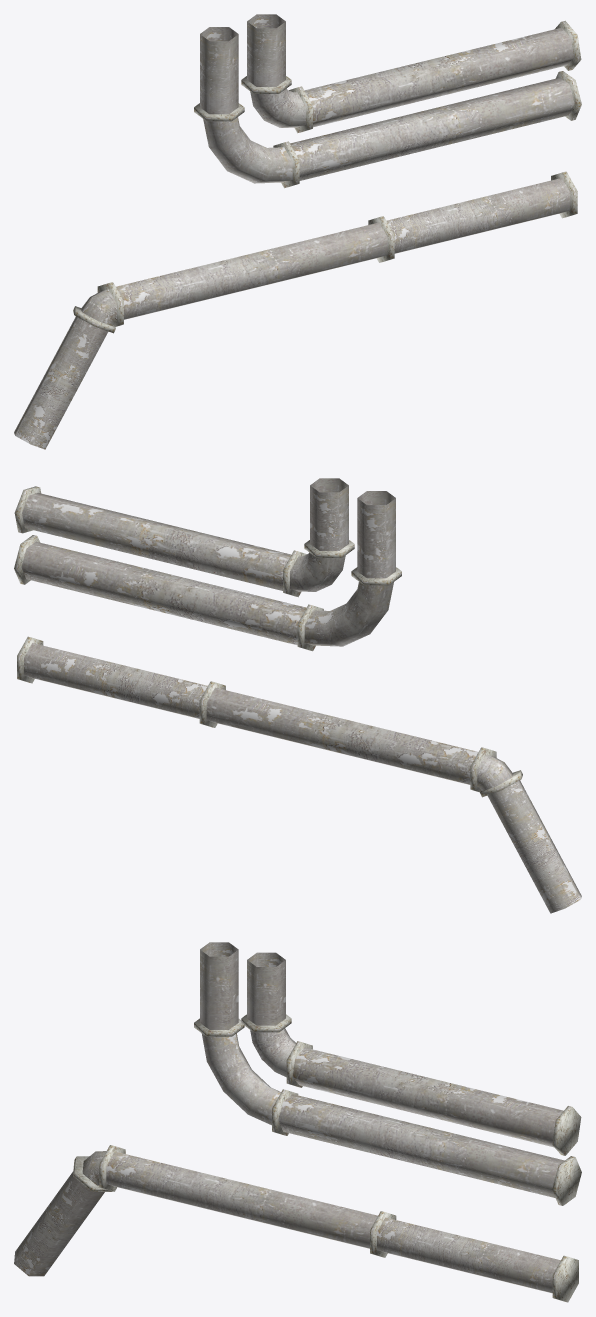
Rendered from WallScope2.obj.
The picture shows the model from 3 angles, top to bottom: view 1: azimuth 30°, elevation 25°; view 2: azimuth 150°, elevation 25°; view 3: azimuth 330°, elevation 25°; orthographic projection.
Parts seen in each view (by area): view 1: pasted__PipeSet1 pipesWall2 Wall_2 WC_Pipes3:polySurface642, pasted__PipeSet1 pipesWall2 Wall_2 WC_Pipes3:polySurface667, Wall_2 group1 WC_Pipes3:polySurface675, Wall_2 polySurface675 group1, Wall_2 group1 WC_Pipes3:polySurface671, pipesWall2 Wall_2 WC_Pipes3:polySurface645, WC_Pipes3:polySurface668 pasted__PipeSet1 pipesWall2 Wall_2, pasted__PipeSet1 pipesWall2 Wall_2 WC_Pipes3:polySurface669, pasted__PipeSet1 pipesWall2 Wall_2 WC_Pipes3:polySurface665, Wall_2 group1 WC_Pipes3:polySurface674; view 2: pasted__PipeSet1 pipesWall2 Wall_2 WC_Pipes3:polySurface642, pasted__PipeSet1 pipesWall2 Wall_2 WC_Pipes3:polySurface667, Wall_2 group1 WC_Pipes3:polySurface675, Wall_2 polySurface675 group1, Wall_2 group1 WC_Pipes3:polySurface671, pipesWall2 Wall_2 WC_Pipes3:polySurface645, WC_Pipes3:polySurface668 pasted__PipeSet1 pipesWall2 Wall_2, pasted__PipeSet1 pipesWall2 Wall_2 WC_Pipes3:polySurface669, pasted__PipeSet1 pipesWall2 Wall_2 WC_Pipes3:polySurface665, Wall_2 group1 WC_Pipes3:polySurface674; view 3: pasted__PipeSet1 pipesWall2 Wall_2 WC_Pipes3:polySurface642, pasted__PipeSet1 pipesWall2 Wall_2 WC_Pipes3:polySurface667, Wall_2 group1 WC_Pipes3:polySurface675, Wall_2 polySurface675 group1, Wall_2 group1 WC_Pipes3:polySurface671, pipesWall2 Wall_2 WC_Pipes3:polySurface645, WC_Pipes3:polySurface668 pasted__PipeSet1 pipesWall2 Wall_2, pasted__PipeSet1 pipesWall2 Wall_2 WC_Pipes3:polySurface669, pasted__PipeSet1 pipesWall2 Wall_2 WC_Pipes3:polySurface665, Wall_2 group1 WC_Pipes3:polySurface674.
Boxes of the visible parts, left/top/right/bottom form: pasted__PipeSet1 pipesWall2 Wall_2 WC_Pipes3:polySurface642: left=290, top=71, right=581, bottom=180; pasted__PipeSet1 pipesWall2 Wall_2 WC_Pipes3:polySurface667: left=304, top=20, right=581, bottom=127; Wall_2 group1 WC_Pipes3:polySurface675: left=116, top=216, right=394, bottom=319; Wall_2 polySurface675 group1: left=386, top=171, right=577, bottom=253; Wall_2 group1 WC_Pipes3:polySurface671: left=14, top=306, right=115, bottom=449; pipesWall2 Wall_2 WC_Pipes3:polySurface645: left=203, top=117, right=299, bottom=188; WC_Pipes3:polySurface668 pasted__PipeSet1 pipesWall2 Wall_2: left=194, top=27, right=244, bottom=121; pasted__PipeSet1 pipesWall2 Wall_2 WC_Pipes3:polySurface669: left=241, top=14, right=291, bottom=93; pasted__PipeSet1 pipesWall2 Wall_2 WC_Pipes3:polySurface665: left=250, top=86, right=312, bottom=133; Wall_2 group1 WC_Pipes3:polySurface674: left=81, top=282, right=123, bottom=326; pasted__PipeSet1 pipesWall2 Wall_2 WC_Pipes3:polySurface642: left=14, top=535, right=306, bottom=645; pasted__PipeSet1 pipesWall2 Wall_2 WC_Pipes3:polySurface667: left=14, top=486, right=290, bottom=590; Wall_2 group1 WC_Pipes3:polySurface675: left=199, top=681, right=478, bottom=784; Wall_2 polySurface675 group1: left=17, top=636, right=207, bottom=718; Wall_2 group1 WC_Pipes3:polySurface671: left=480, top=770, right=581, bottom=913; pipesWall2 Wall_2 WC_Pipes3:polySurface645: left=297, top=582, right=393, bottom=651; WC_Pipes3:polySurface668 pasted__PipeSet1 pipesWall2 Wall_2: left=351, top=491, right=401, bottom=585; pasted__PipeSet1 pipesWall2 Wall_2 WC_Pipes3:polySurface669: left=304, top=478, right=354, bottom=557; pasted__PipeSet1 pipesWall2 Wall_2 WC_Pipes3:polySurface665: left=283, top=550, right=345, bottom=597; Wall_2 group1 WC_Pipes3:polySurface674: left=470, top=747, right=513, bottom=792; pasted__PipeSet1 pipesWall2 Wall_2 WC_Pipes3:polySurface642: left=278, top=1094, right=581, bottom=1205; pasted__PipeSet1 pipesWall2 Wall_2 WC_Pipes3:polySurface667: left=292, top=1047, right=581, bottom=1155; Wall_2 group1 WC_Pipes3:polySurface675: left=106, top=1151, right=396, bottom=1257; Wall_2 polySurface675 group1: left=377, top=1217, right=578, bottom=1302; Wall_2 group1 WC_Pipes3:polySurface671: left=14, top=1156, right=114, bottom=1276; pipesWall2 Wall_2 WC_Pipes3:polySurface645: left=201, top=1033, right=298, bottom=1135; WC_Pipes3:polySurface668 pasted__PipeSet1 pipesWall2 Wall_2: left=194, top=942, right=244, bottom=1036; pasted__PipeSet1 pipesWall2 Wall_2 WC_Pipes3:polySurface669: left=241, top=952, right=291, bottom=1032; pasted__PipeSet1 pipesWall2 Wall_2 WC_Pipes3:polySurface665: left=250, top=1028, right=312, bottom=1087; Wall_2 group1 WC_Pipes3:polySurface674: left=82, top=1145, right=125, bottom=1191.
Size of the model in its own units: 16.48 by 10.53 by 1.3.
Materials: 1 (1 with a texture image).
